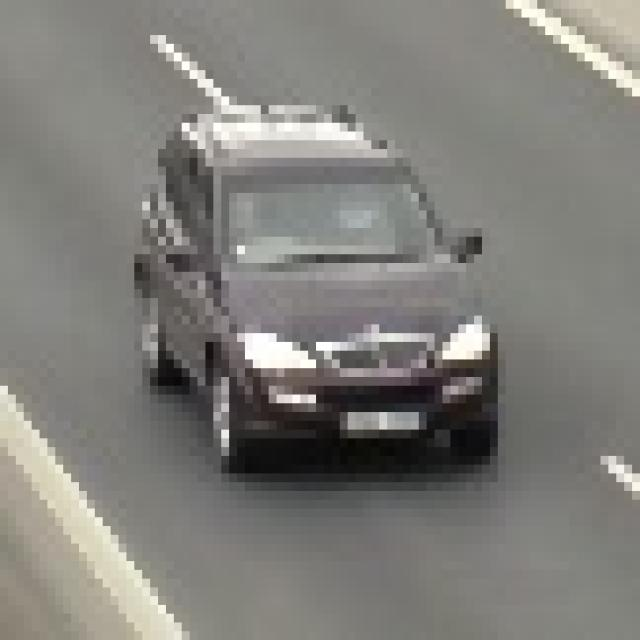SUV: (143, 114, 498, 460)
